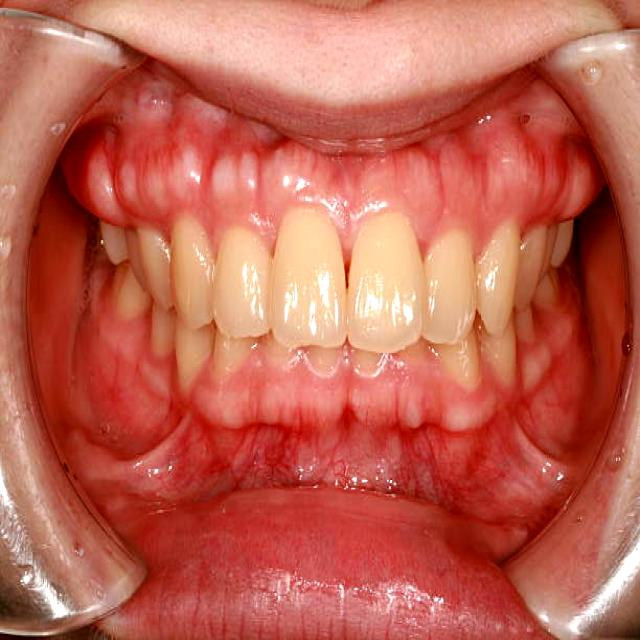gingivitis: (73, 301, 586, 525), (65, 118, 599, 248)
